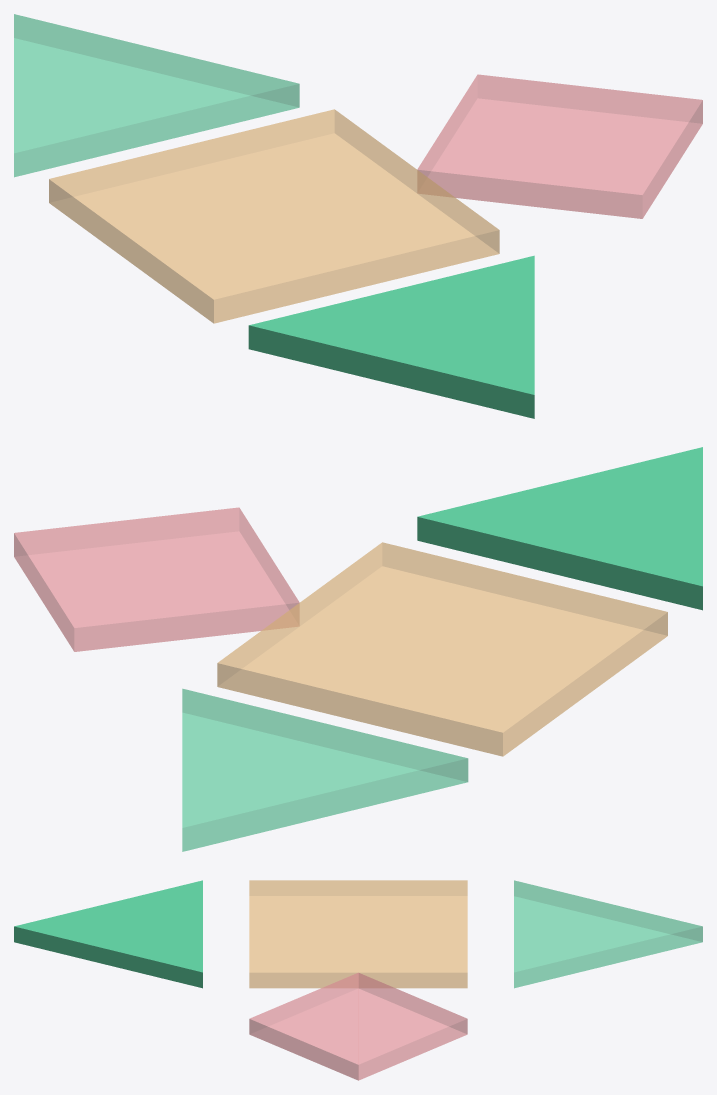
Rendered from pesce_step5.glb.
3 renders of one model, top to bottom at view 1: azimuth 30°, elevation 25°; view 2: azimuth 150°, elevation 25°; view 3: azimuth 270°, elevation 25°, orthographic. The views are drawn at different scales.
Parts seen in each view (by area): view 1: quadrato_piccolo, rombo, triangolo_equilatero.001, triangolo_equilatero; view 2: quadrato_piccolo, rombo, triangolo_equilatero, triangolo_equilatero.001; view 3: quadrato_piccolo, rombo, triangolo_equilatero, triangolo_equilatero.001.
Boxes of the visible parts, x1=… form: quadrato_piccolo: x1=49, y1=109, x2=499, y2=323; rombo: x1=417, y1=74, x2=702, y2=218; triangolo_equilatero.001: x1=248, y1=255, x2=534, y2=418; triangolo_equilatero: x1=14, y1=14, x2=299, y2=177; quadrato_piccolo: x1=217, y1=542, x2=667, y2=756; rombo: x1=14, y1=507, x2=299, y2=651; triangolo_equilatero: x1=182, y1=688, x2=468, y2=851; triangolo_equilatero.001: x1=417, y1=447, x2=702, y2=610; quadrato_piccolo: x1=249, y1=880, x2=467, y2=988; rombo: x1=249, y1=972, x2=467, y2=1080; triangolo_equilatero: x1=514, y1=880, x2=702, y2=988; triangolo_equilatero.001: x1=14, y1=880, x2=202, y2=988.
Bounding box in the file's own units: 2 × 0.08 × 3.15.
